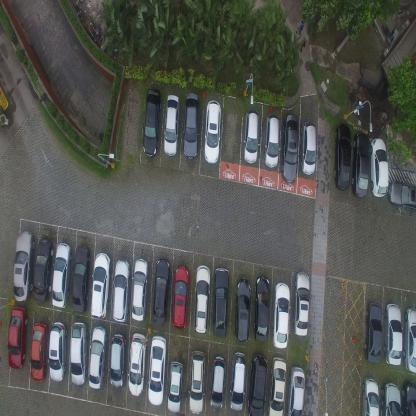car: (12, 229, 35, 303), (147, 336, 168, 407), (141, 86, 162, 157), (90, 251, 111, 320), (51, 241, 72, 309), (350, 129, 370, 200), (332, 122, 352, 192), (211, 266, 230, 338), (71, 244, 90, 314), (247, 352, 268, 415), (128, 332, 148, 398), (33, 238, 53, 304), (88, 324, 108, 389), (7, 305, 27, 369), (192, 262, 210, 333), (69, 319, 88, 386), (272, 280, 290, 350), (48, 319, 68, 382), (171, 263, 190, 329), (370, 136, 390, 198), (152, 257, 170, 325), (281, 112, 298, 184), (292, 268, 310, 336), (234, 277, 252, 344), (188, 348, 206, 415), (267, 356, 287, 416), (384, 301, 402, 367), (112, 257, 130, 323), (30, 321, 49, 383), (254, 274, 271, 342), (131, 258, 149, 322), (364, 300, 382, 364), (203, 97, 220, 163), (163, 91, 180, 155), (182, 92, 198, 158), (242, 108, 260, 164), (166, 358, 184, 414), (109, 330, 126, 389), (230, 349, 246, 411), (263, 113, 281, 168), (209, 354, 227, 409), (285, 366, 305, 415), (402, 306, 416, 375), (300, 119, 316, 176), (388, 178, 415, 211), (360, 375, 380, 415), (380, 380, 401, 415), (400, 378, 416, 416)
